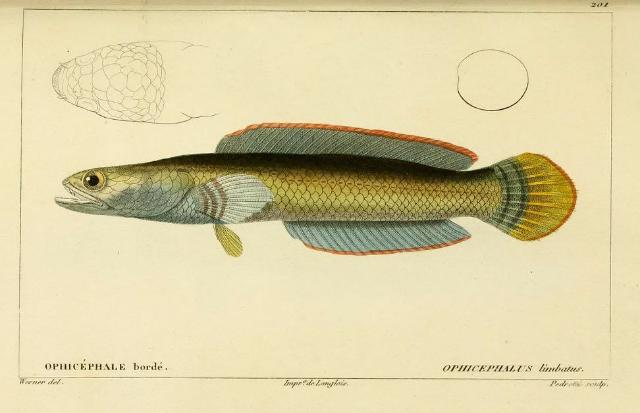Mulut: (49, 170, 120, 224)
Sirip Anal: (280, 216, 480, 256)
Sirip Dada: (186, 174, 280, 220), (210, 228, 248, 262)
Sirip Ekor: (484, 150, 584, 243)
Sirip Punggung: (215, 116, 479, 172)
